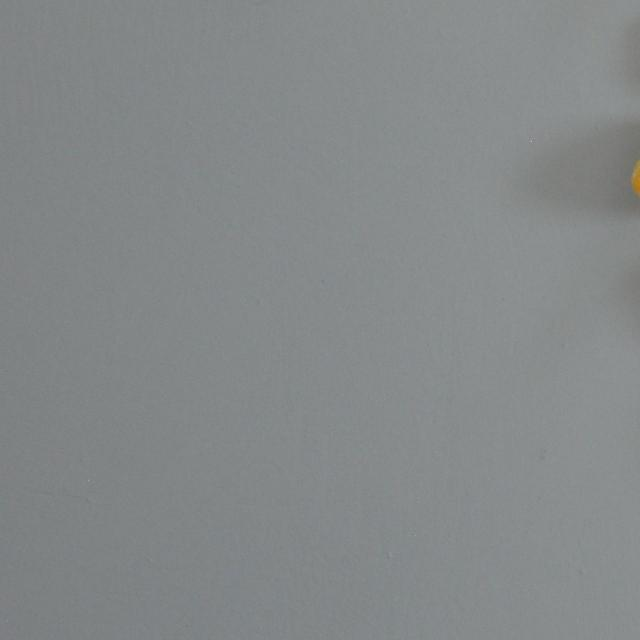dañado: (628, 112, 640, 211)
